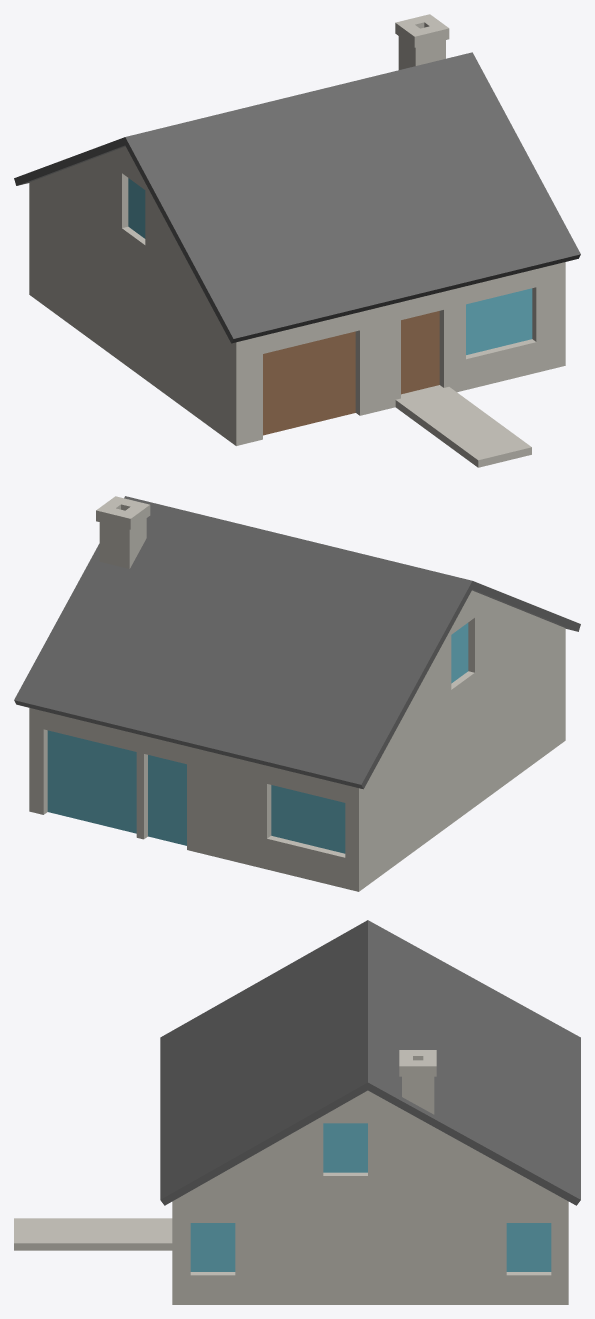
File: house_small_2.gltf
3 renders of one model, top to bottom at view 1: azimuth 30°, elevation 25°; view 2: azimuth 150°, elevation 25°; view 3: azimuth 270°, elevation 25°, orthographic. The views are drawn at different scales.
Visible parts, largest first — view 1: house-small.2_Cube.008, doorway walkup.003, chimney.004; view 2: house-small.2_Cube.008, chimney.004; view 3: house-small.2_Cube.008, doorway walkup.003, chimney.004.
Part boxes in pixels (box(x1,y1,x2,y2)): house-small.2_Cube.008: box(14, 52, 580, 445); doorway walkup.003: box(395, 385, 531, 467); chimney.004: box(395, 14, 449, 69); house-small.2_Cube.008: box(14, 496, 580, 891); chimney.004: box(96, 496, 150, 568); house-small.2_Cube.008: box(160, 920, 580, 1304); doorway walkup.003: box(14, 1218, 172, 1250); chimney.004: box(399, 1050, 436, 1114).
Size of the model in its own units: 4.85 by 3.34 by 7.16.
Materials: 1 (1 with a texture image).
